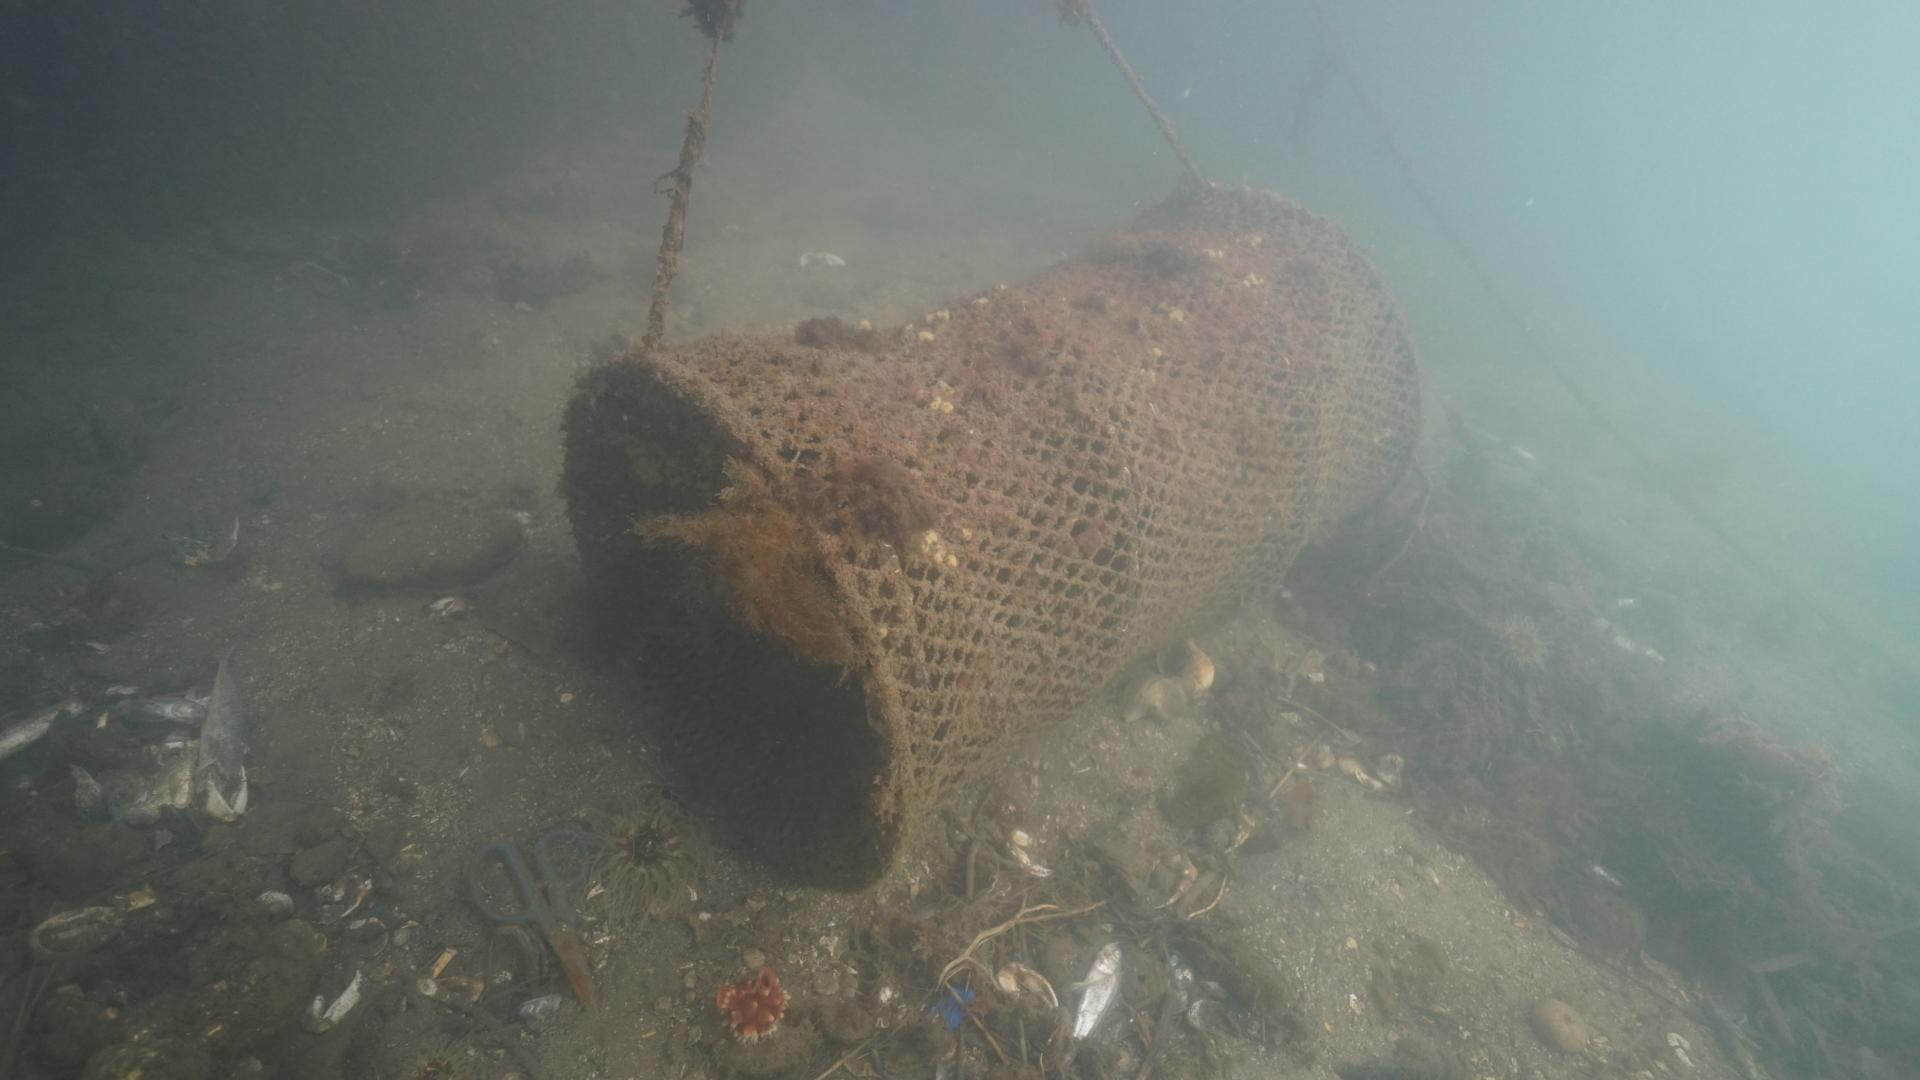rope: (632, 0, 725, 349), (1069, 0, 1203, 179)
spring fish trap: (553, 171, 1433, 895)
